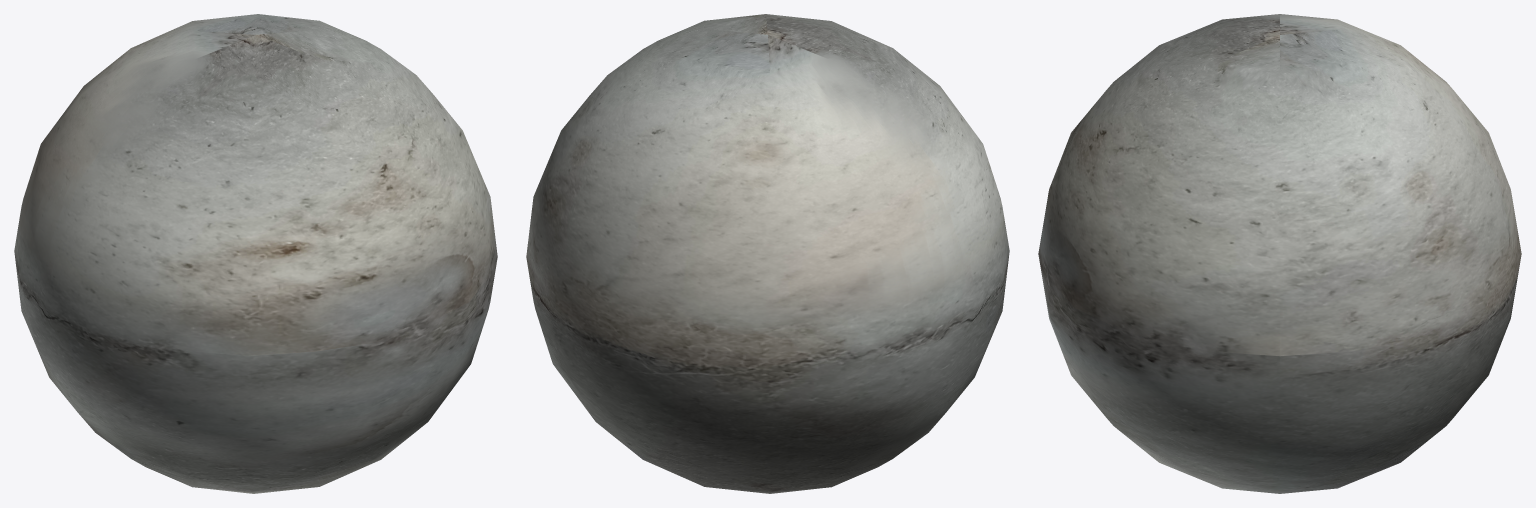
File: moon_a_h.fbx
3 views of the same model, side by side, from view 1: azimuth 30°, elevation 25°; view 2: azimuth 150°, elevation 25°; view 3: azimuth 270°, elevation 25° (orthographic).
Parts seen in each view (by area): view 1: moon_a_h; view 2: moon_a_h; view 3: moon_a_h.
Boxes of the visible parts, <box> form: moon_a_h: <box>14,14,497,493</box>; moon_a_h: <box>526,14,1009,493</box>; moon_a_h: <box>1038,14,1521,493</box>.
Size of the model in its own units: 60 by 60 by 60.
Materials: 1 (1 with a texture image).
